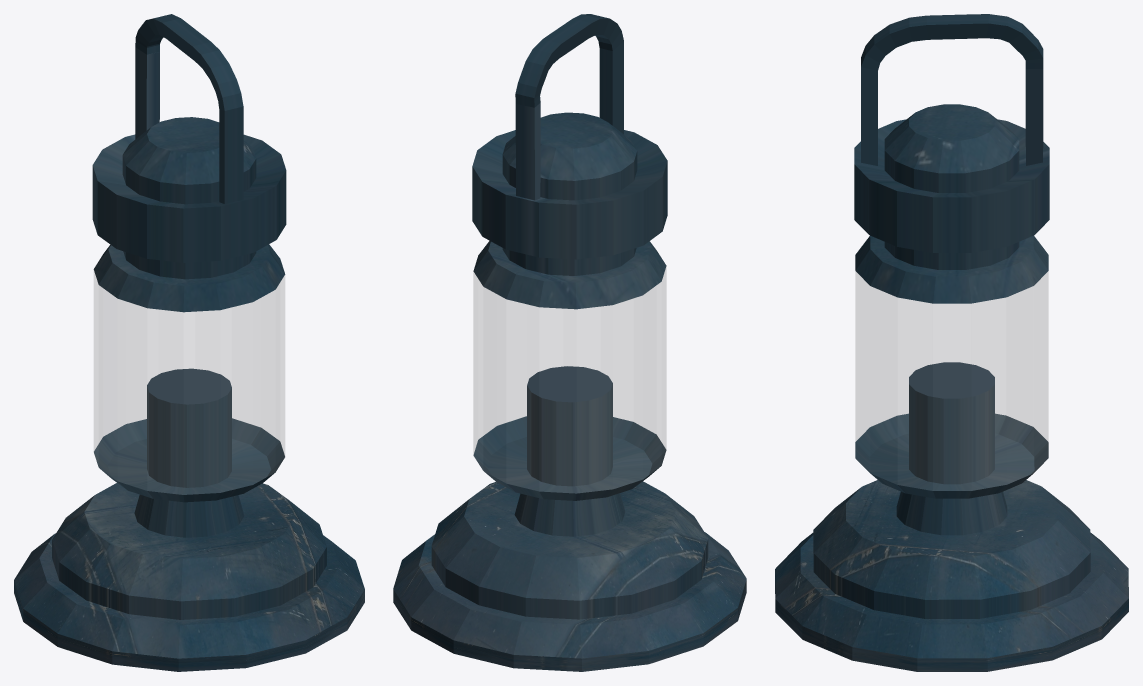
The model's file is Awesome Lantern.fbx.
The picture shows the model from 3 angles, left to right: view 1: azimuth 30°, elevation 25°; view 2: azimuth 150°, elevation 25°; view 3: azimuth 270°, elevation 25°; orthographic projection. The views are drawn at different scales.
Visible parts, largest first — view 1: Cylinder; view 2: Cylinder; view 3: Cylinder.
Boxes of the visible parts, x1,y1,x2,y2 form: Cylinder: (14, 14, 364, 671); Cylinder: (393, 14, 746, 671); Cylinder: (775, 14, 1128, 671).
Bounding box in the file's own units: 196 × 354 × 196.
